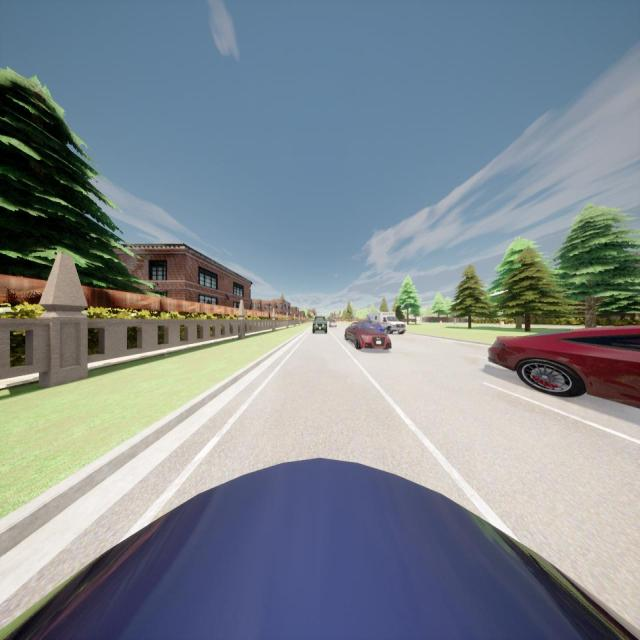Vehicle: (0, 456, 640, 640), (487, 324, 640, 414), (344, 322, 392, 350), (366, 312, 407, 335), (312, 316, 328, 334), (329, 320, 337, 327)
